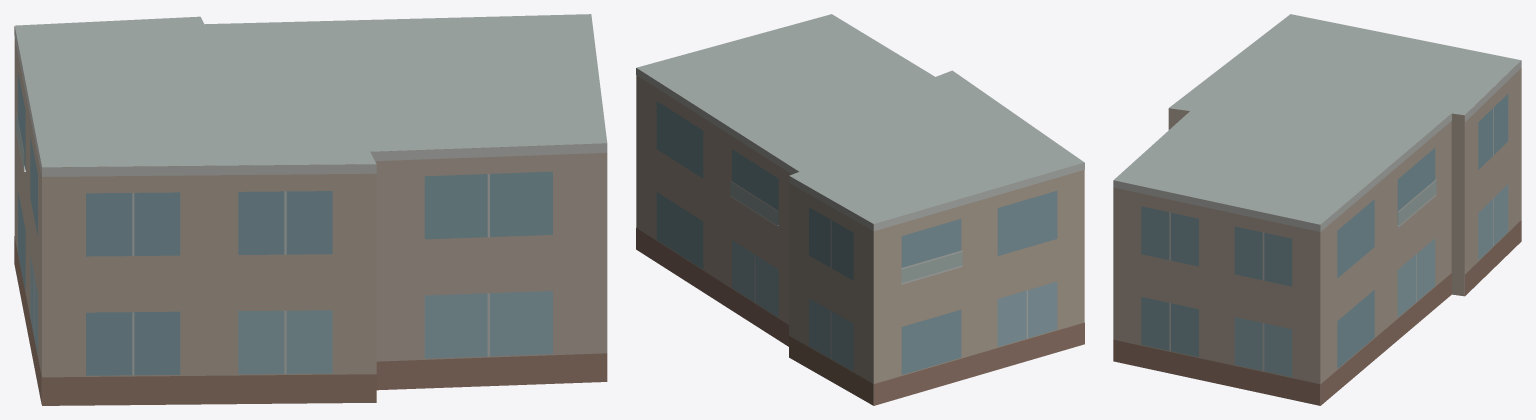
The model's file is survey-upis-32922090.glb.
3 views of the same model, side by side, from view 1: azimuth 30°, elevation 25°; view 2: azimuth 150°, elevation 25°; view 3: azimuth 270°, elevation 25° (orthographic). The views are drawn at different scales.
Visible parts, largest first — view 1: survey-upis-32922090.tmp; view 2: survey-upis-32922090.tmp; view 3: survey-upis-32922090.tmp.
Part boxes in pixels (x1=…): survey-upis-32922090.tmp: x1=14, y1=14, x2=607, y2=405; survey-upis-32922090.tmp: x1=636, y1=14, x2=1084, y2=405; survey-upis-32922090.tmp: x1=1113, y1=14, x2=1521, y2=405.
Size of the model in its own units: 15.24 by 6.1 by 12.47.
